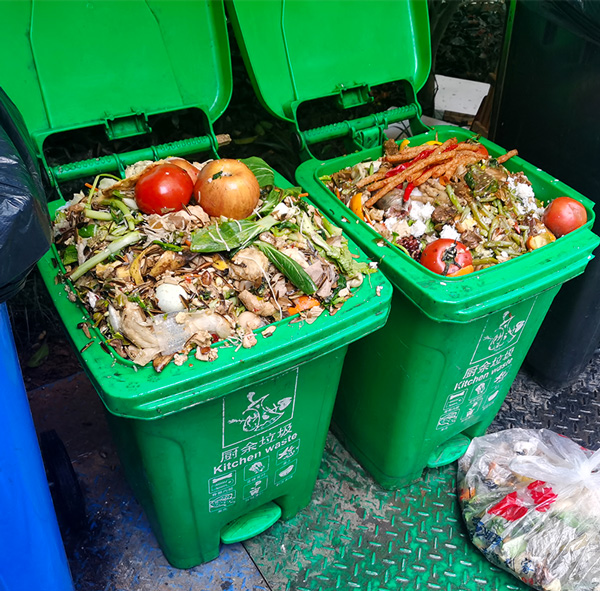bin_full: (0, 0, 391, 568), (233, 0, 599, 487)
normal_waste: (459, 429, 599, 590), (195, 160, 259, 218), (135, 164, 193, 214)
